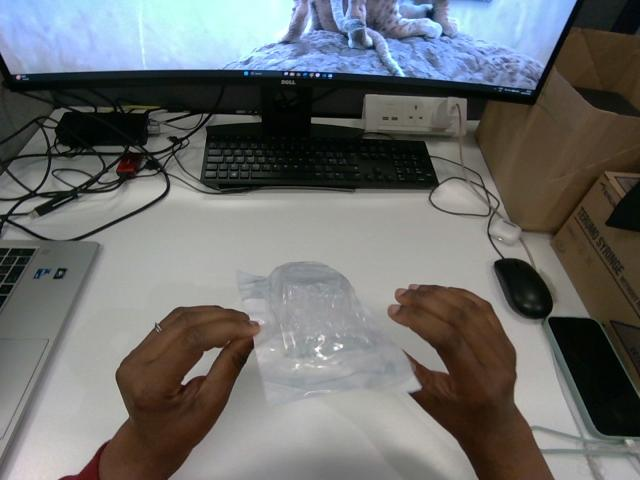gallipot: (237, 262, 419, 403)
